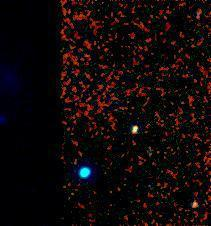star: (178, 194, 208, 224)
